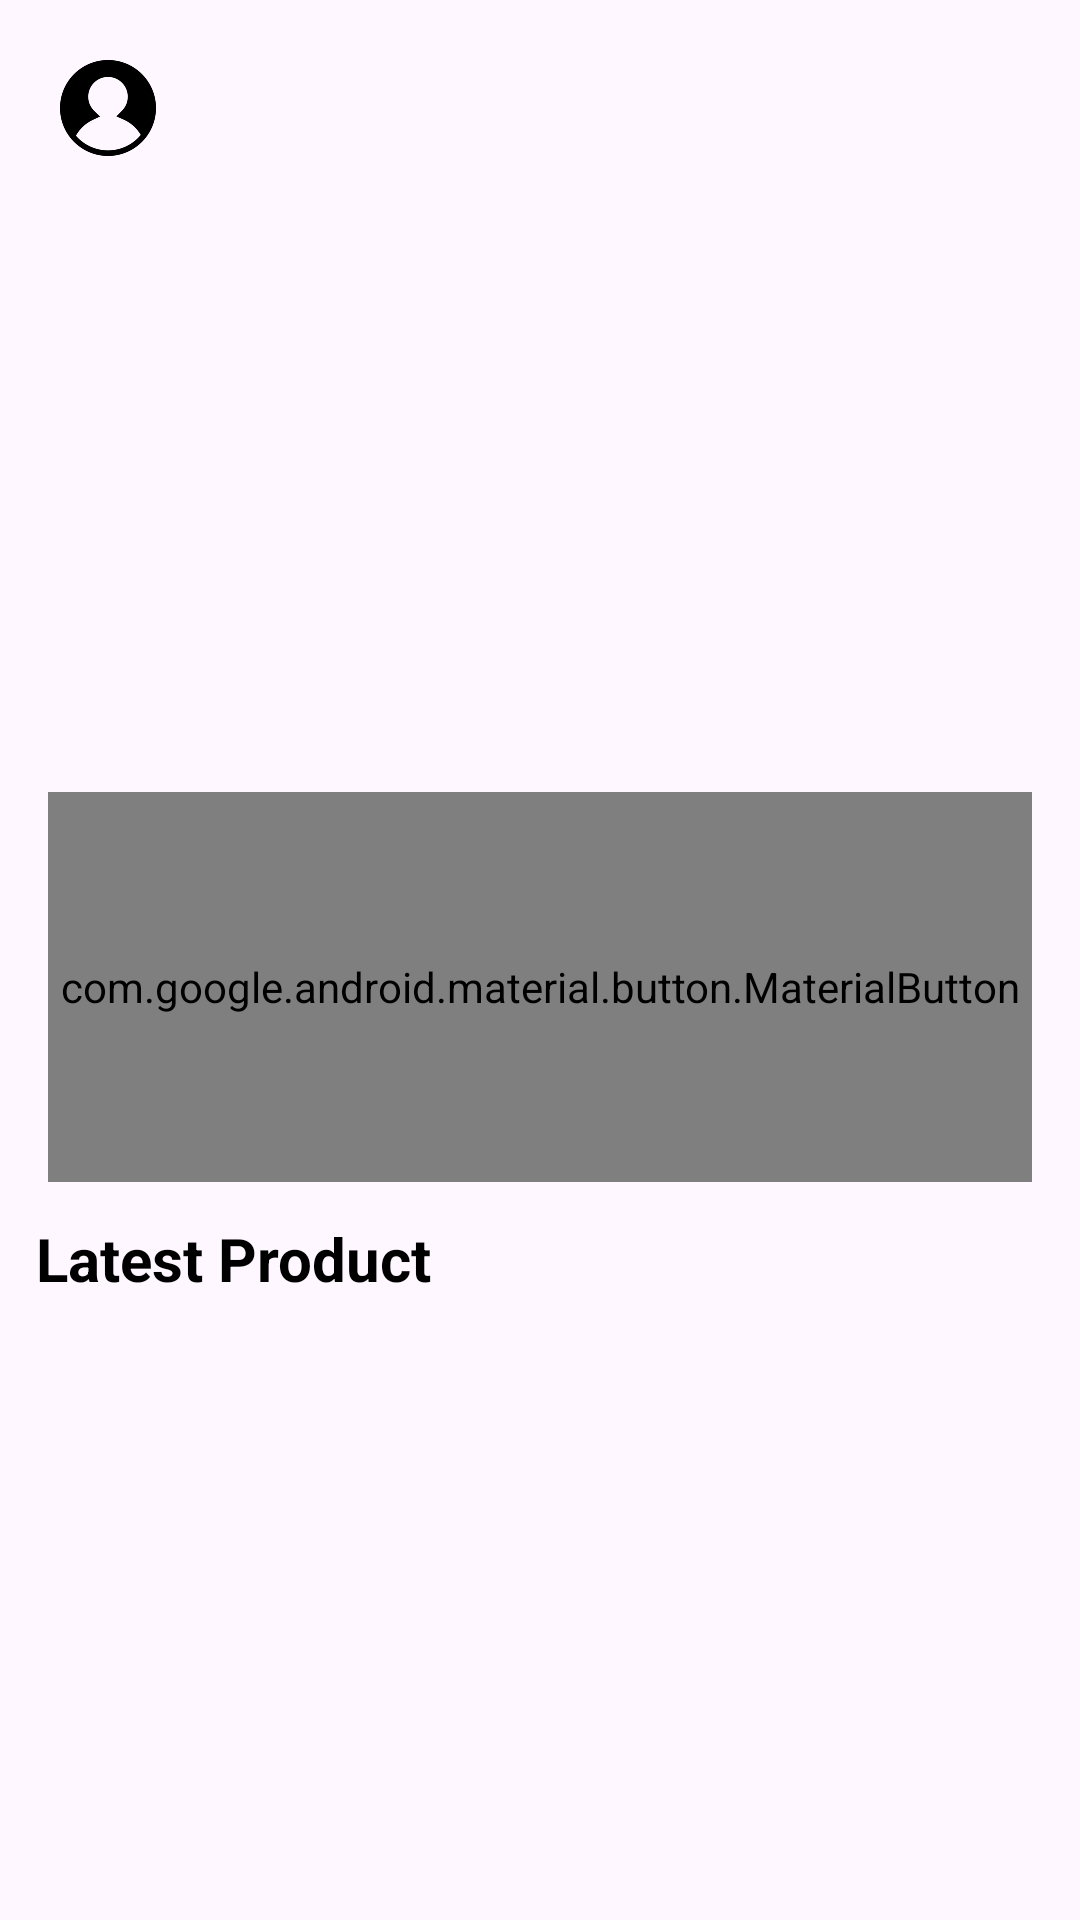

Icons on this 1080 × 1920 Android screen, each with its box as (x1, y1, x2, y2):
profile picture: (60, 60, 156, 156)
